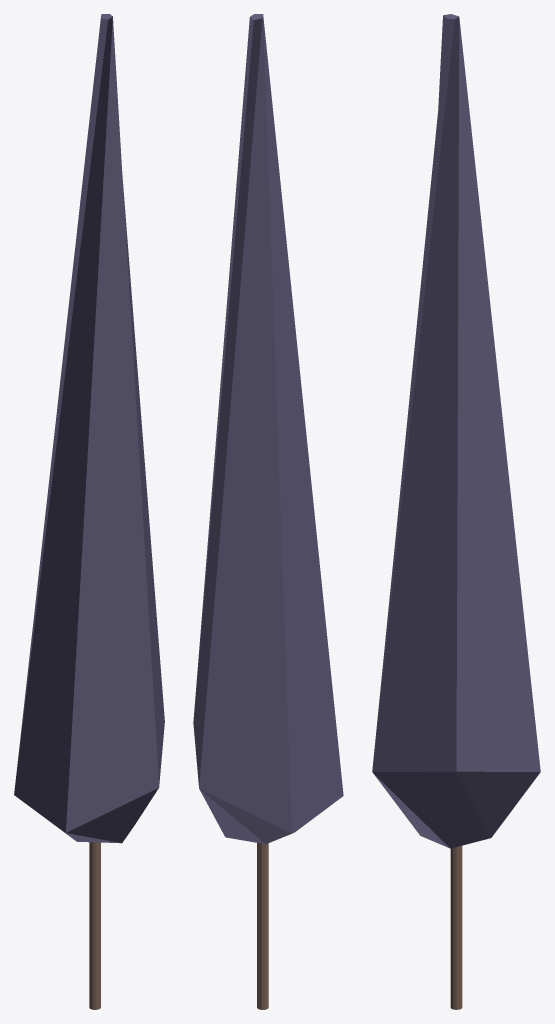
File: Tree 5.fbx
3 renders of one model, left to right at view 1: azimuth 30°, elevation 25°; view 2: azimuth 150°, elevation 25°; view 3: azimuth 270°, elevation 25°, orthographic.
Parts seen in each view (by area): view 1: pCylinder9, pCylinder10; view 2: pCylinder9, pCylinder10; view 3: pCylinder9, pCylinder10.
Boxes of the visible parts, x1,y1,x2,y2 form: pCylinder9: [14, 14, 164, 843]; pCylinder10: [89, 842, 100, 1009]; pCylinder9: [193, 14, 343, 844]; pCylinder10: [257, 843, 268, 1009]; pCylinder9: [372, 14, 540, 848]; pCylinder10: [450, 846, 462, 1009].
Size of the model in its own units: 1.03 by 7.82 by 1.2.
